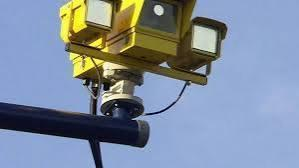Speed-Camera: (57, 0, 242, 81)
